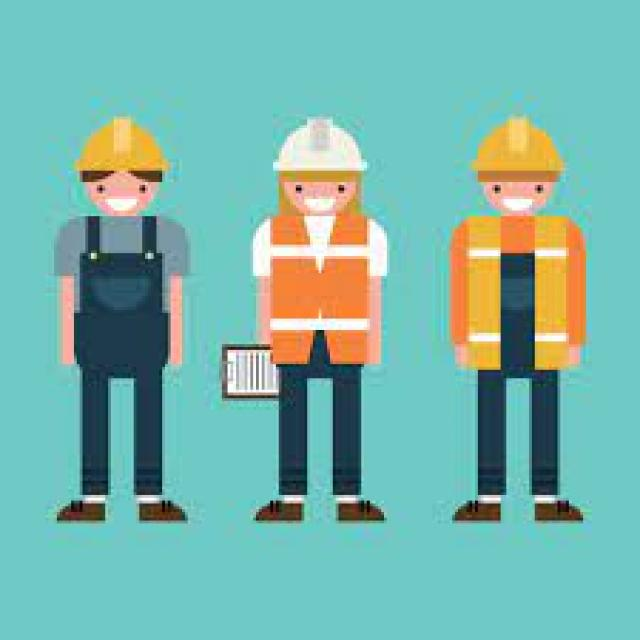Reflective-Jacket: (438, 211, 595, 381), (256, 213, 381, 373)
Safety-Helmet: (464, 111, 569, 188), (268, 111, 372, 185), (68, 111, 174, 182)
